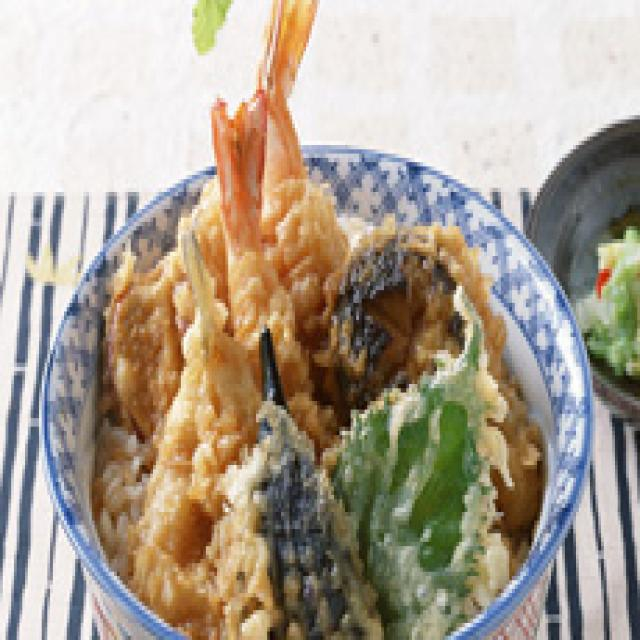熟制海鲜: (28, 81, 606, 640)
